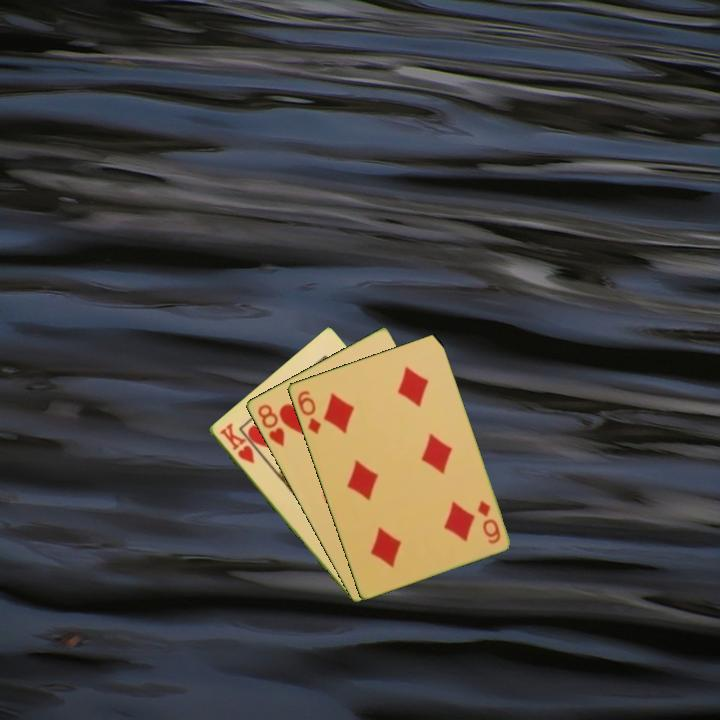6d: (293, 387, 324, 437), (473, 497, 503, 547)
8h: (253, 400, 287, 449)
Kh: (216, 419, 257, 466)
